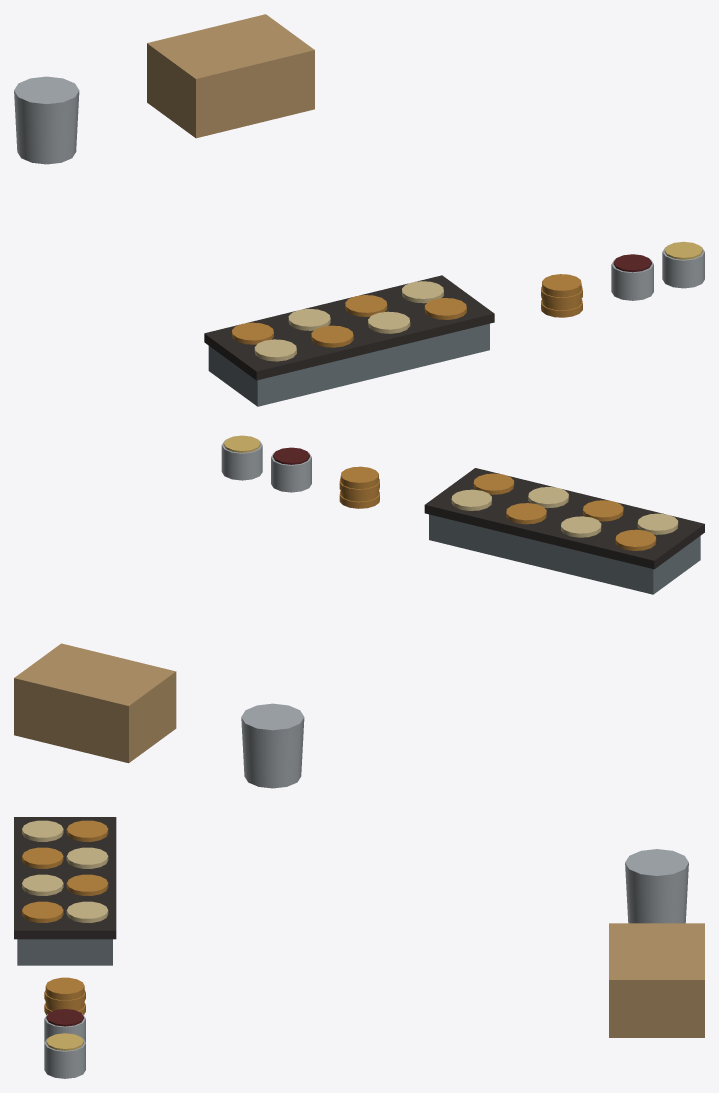
File: goods_obanyaki.glb
3 views of the same model, one above another, from view 1: azimuth 30°, elevation 25°; view 2: azimuth 150°, elevation 25°; view 3: azimuth 270°, elevation 25° (orthographic). The views are drawn at different scales.
Parts seen in each view (by area): view 1: goods_obanyaki; view 2: goods_obanyaki; view 3: goods_obanyaki.
Boxes of the visible parts, bbox=[...] form: goods_obanyaki: bbox=[14, 14, 704, 406]; goods_obanyaki: bbox=[14, 435, 704, 788]; goods_obanyaki: bbox=[14, 817, 704, 1078].
Bounding box in the file's own units: 1.67 × 0.208 × 2.16.
